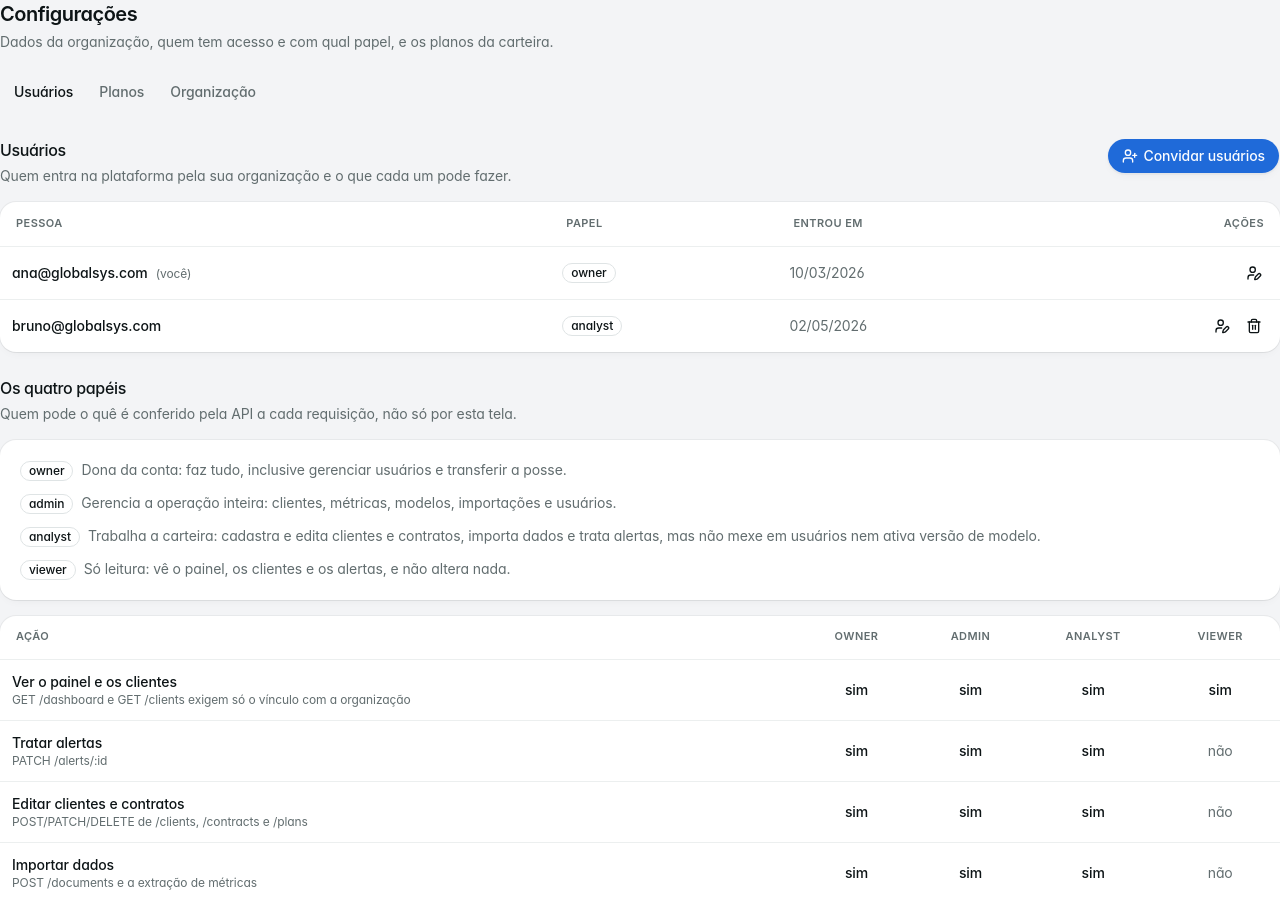
Test case: Configurações — aba Usuários › muda o papel de alguém depois de confirmar
Expected: the text "bruno@globalsys.com" is shown, [0, 299, 550, 352]
Click the button named "Mudar o papel de bruno@globalsys.com" at {"x": 1222, "y": 326}, box [1208, 312, 1236, 340]
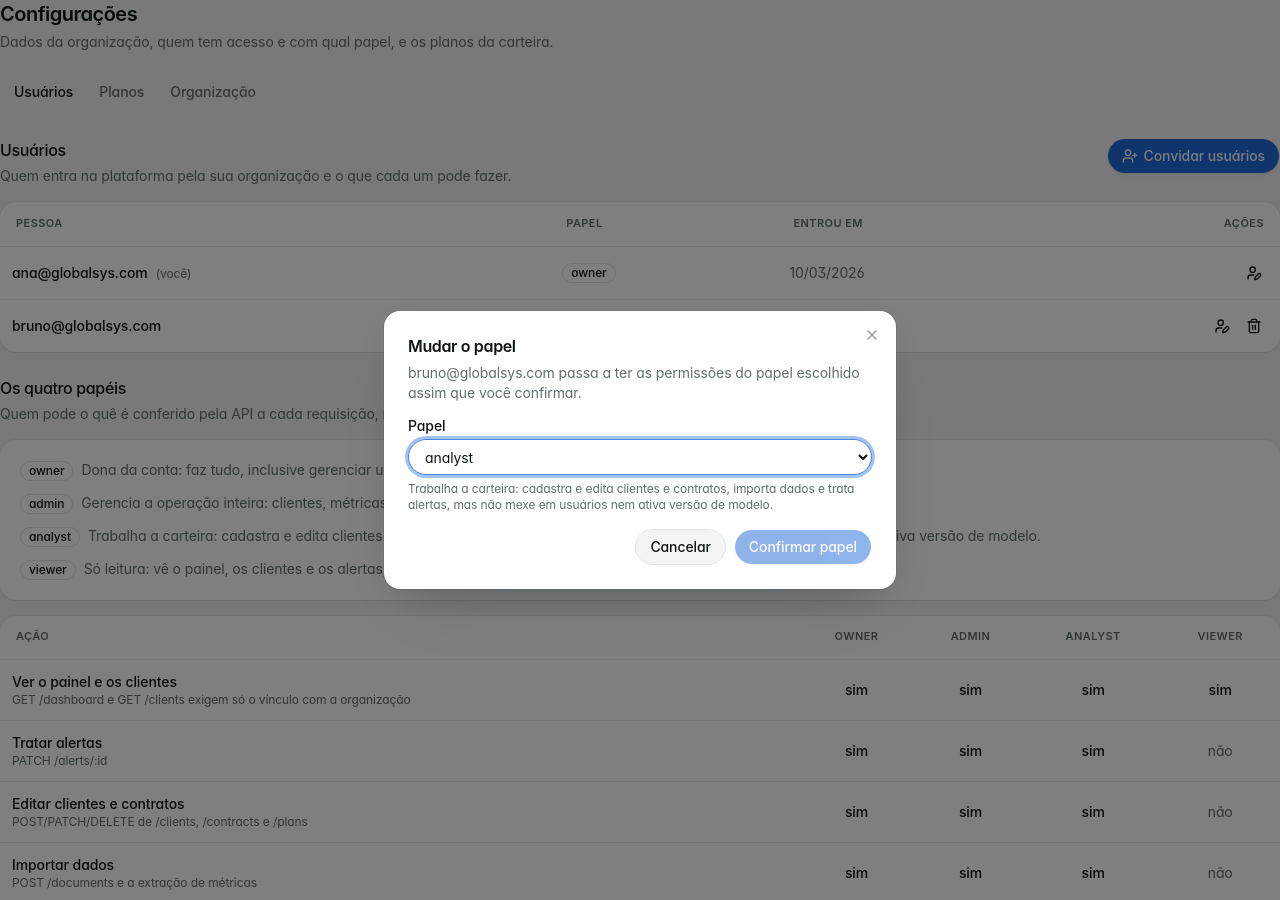
Select "admin" in the dropdown labelled "Papel" at {"x": 640, "y": 457}, box [408, 439, 872, 475]
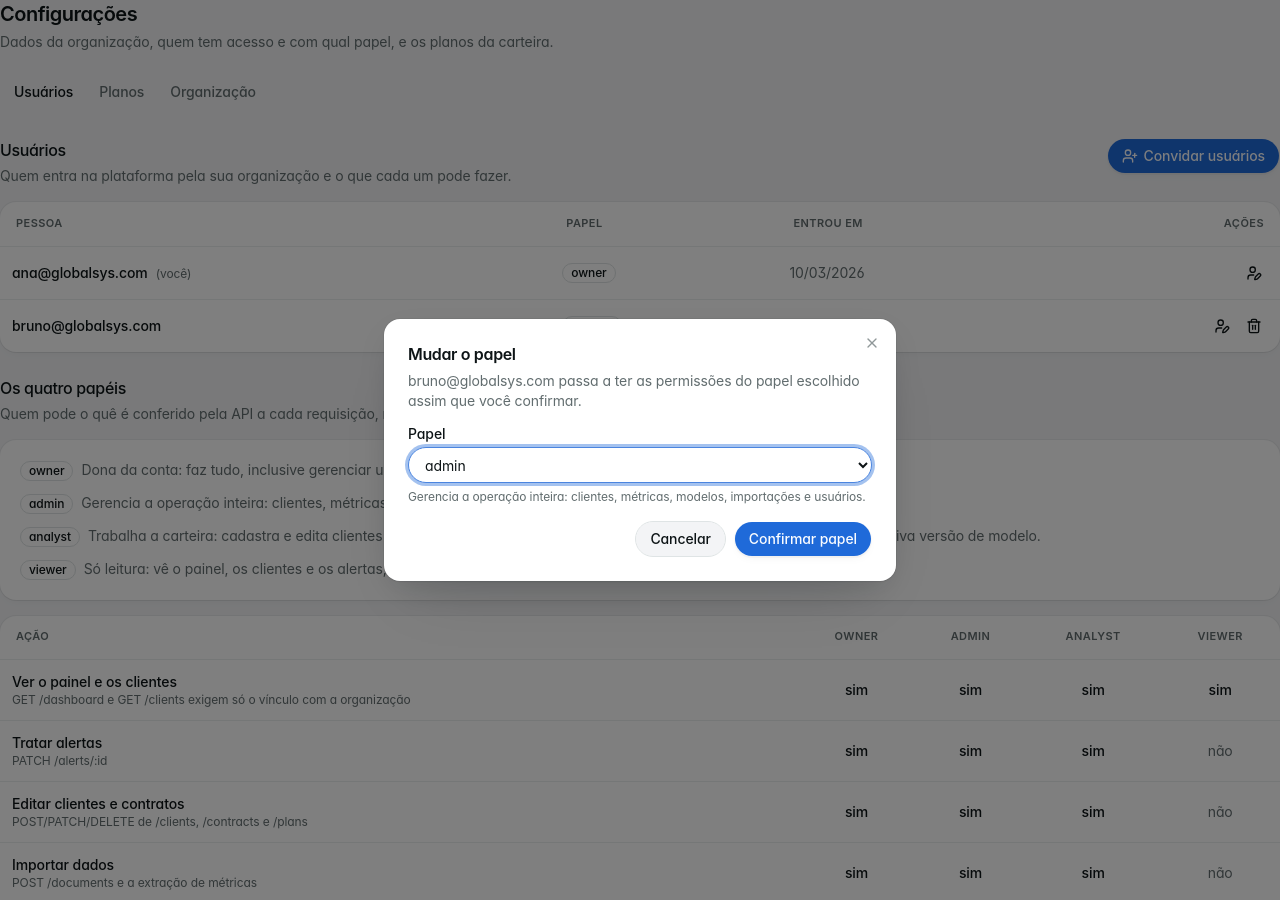
Click the button "Confirmar papel" at {"x": 803, "y": 539}, box [734, 521, 872, 557]
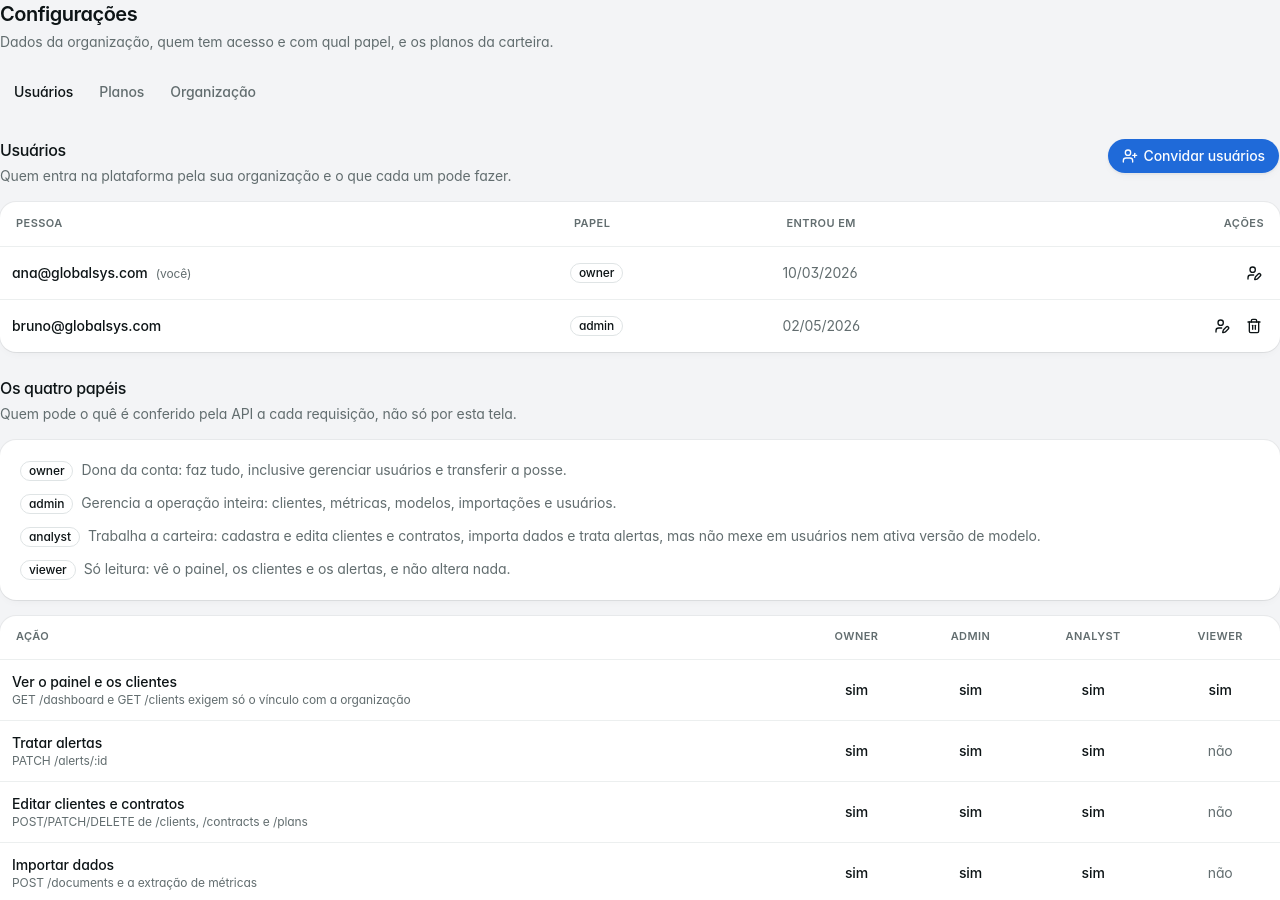
Expected: the icon "admin" in the row of "bruno@globalsys.com" is shown, [579, 318, 614, 333]
